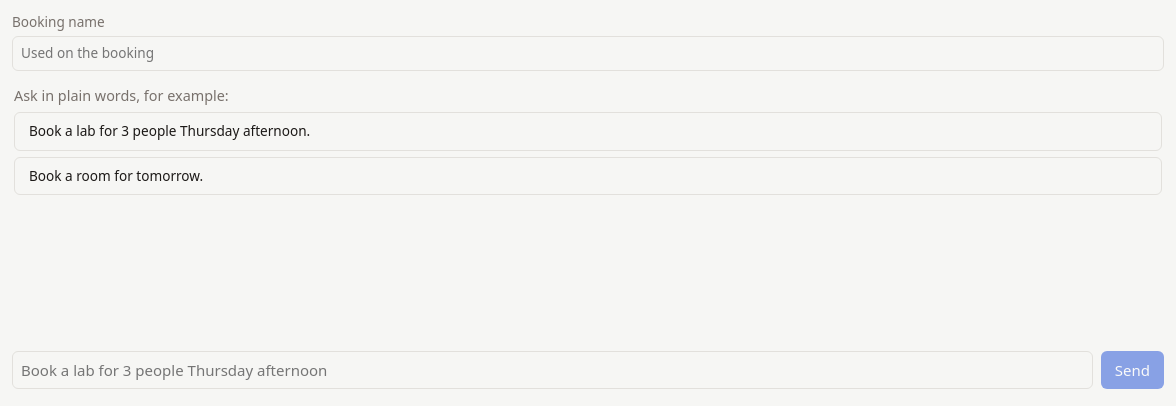
Test: Chat › case 4: an unclear request gets a question back and no proposal
Step 1. Type "Book a room for tomorrow." into the field named "Message" → (552, 370), box 12,351 -> 1093,389
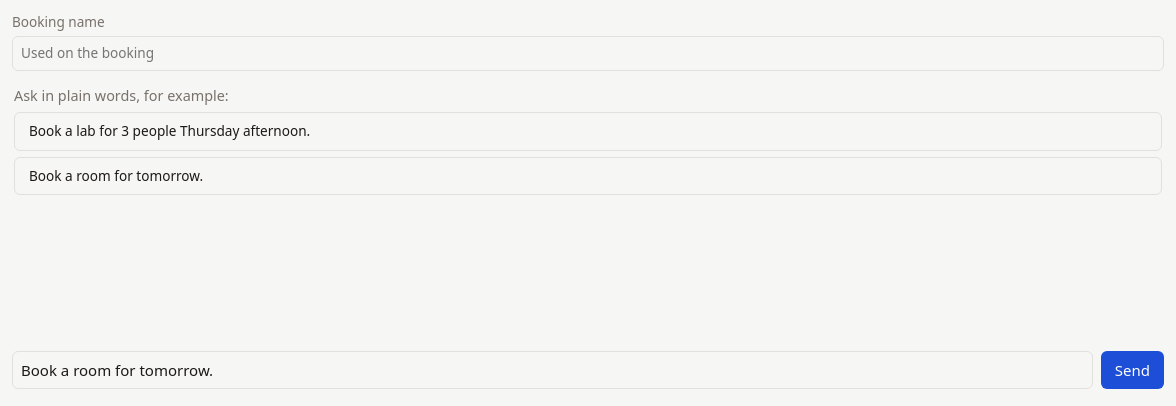
Step 2. Click the button "Send" → (1132, 370), box 1101,351 -> 1164,389
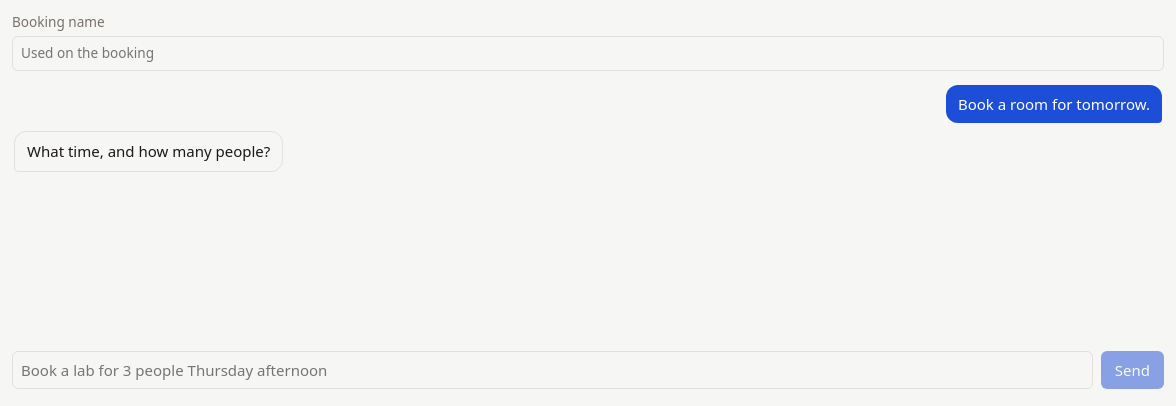
Result: the text "What time, and how many people?" is shown at 14,131 -> 283,172
